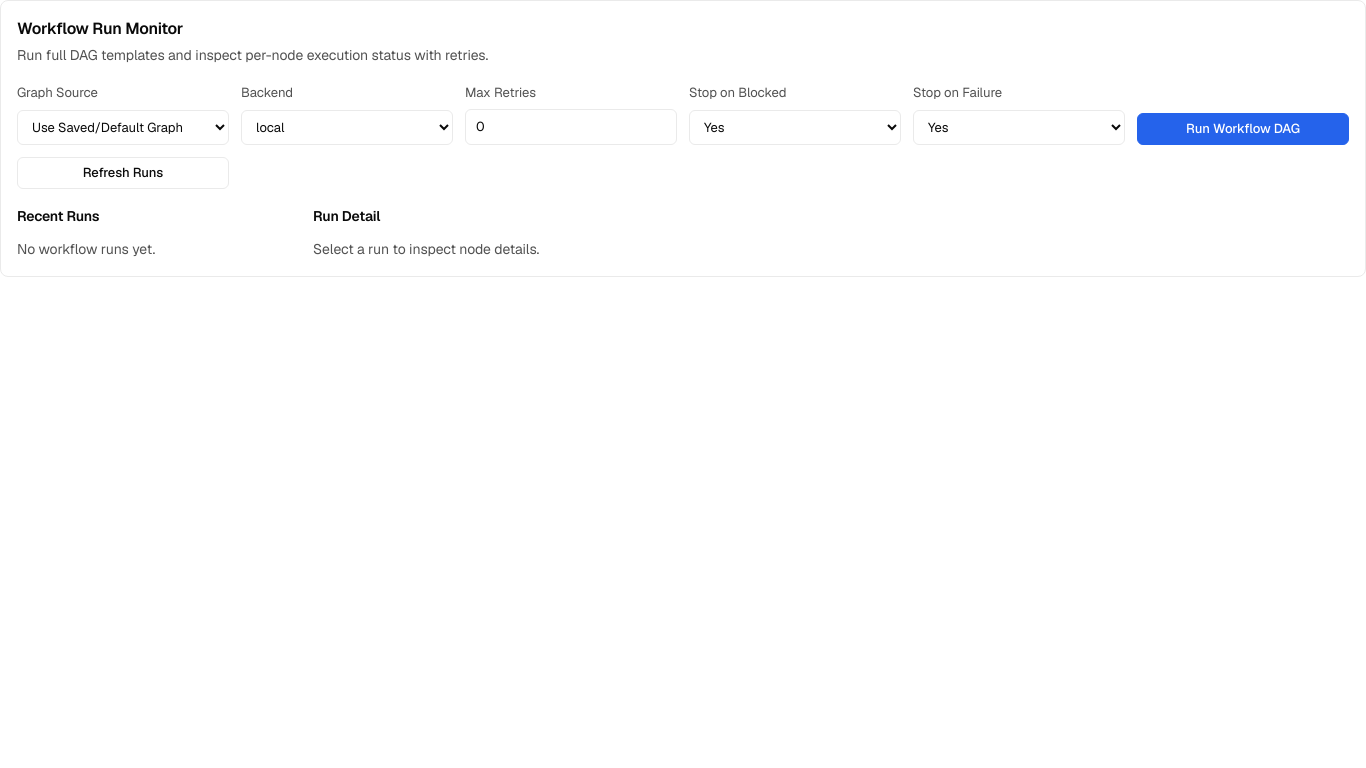
Scenario: WorkflowRunMonitor autopilot gate › queues autopilot run with profile metadata when preflight passes
This screenshot has width=1366, height=768.
Step 1. Select "Autopilot Chat Pipeline" in the dropdown labelled "Graph Source" → {"x": 123, "y": 127}, box [17, 110, 229, 144]
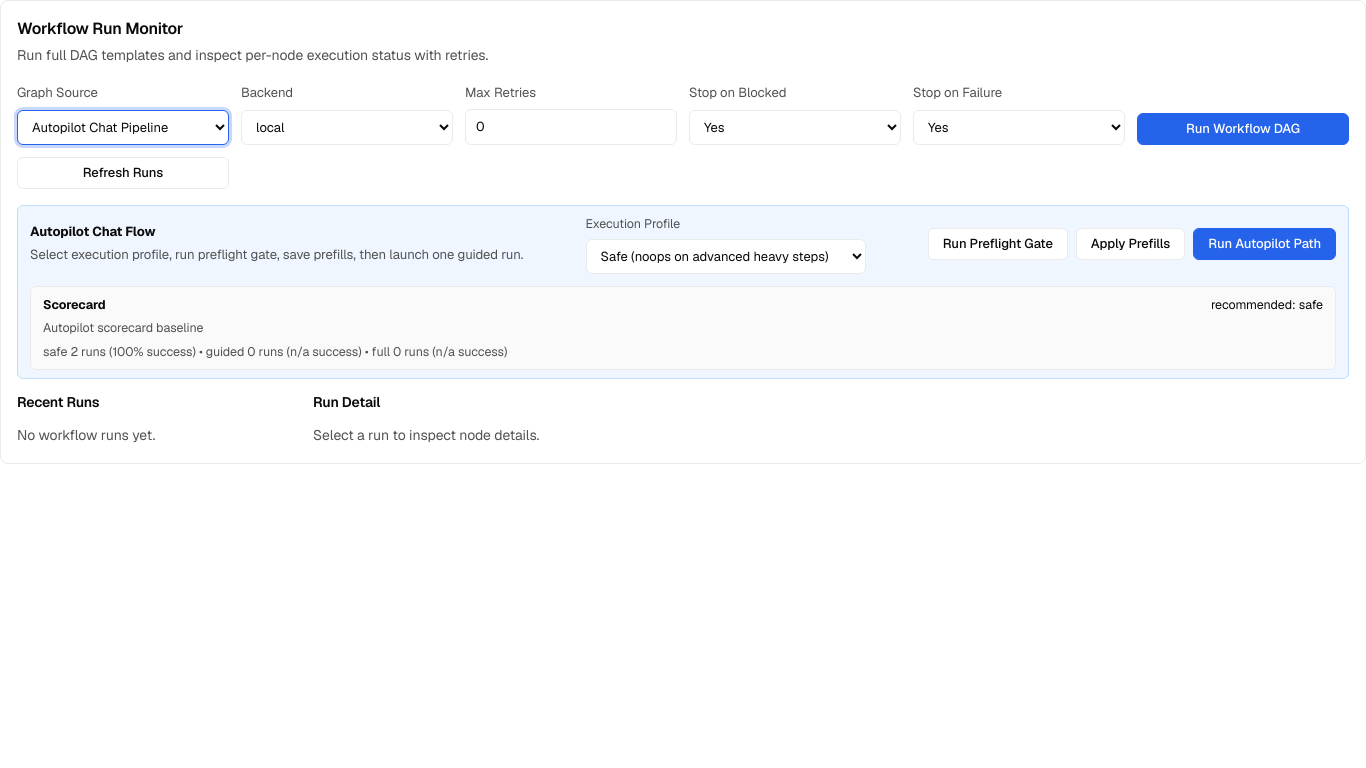
Check: the text "Autopilot Chat Flow" is shown, box [30, 223, 155, 240]
Step 2. Click the button "Run Autopilot Path" → {"x": 1265, "y": 244}, box [1193, 228, 1336, 260]
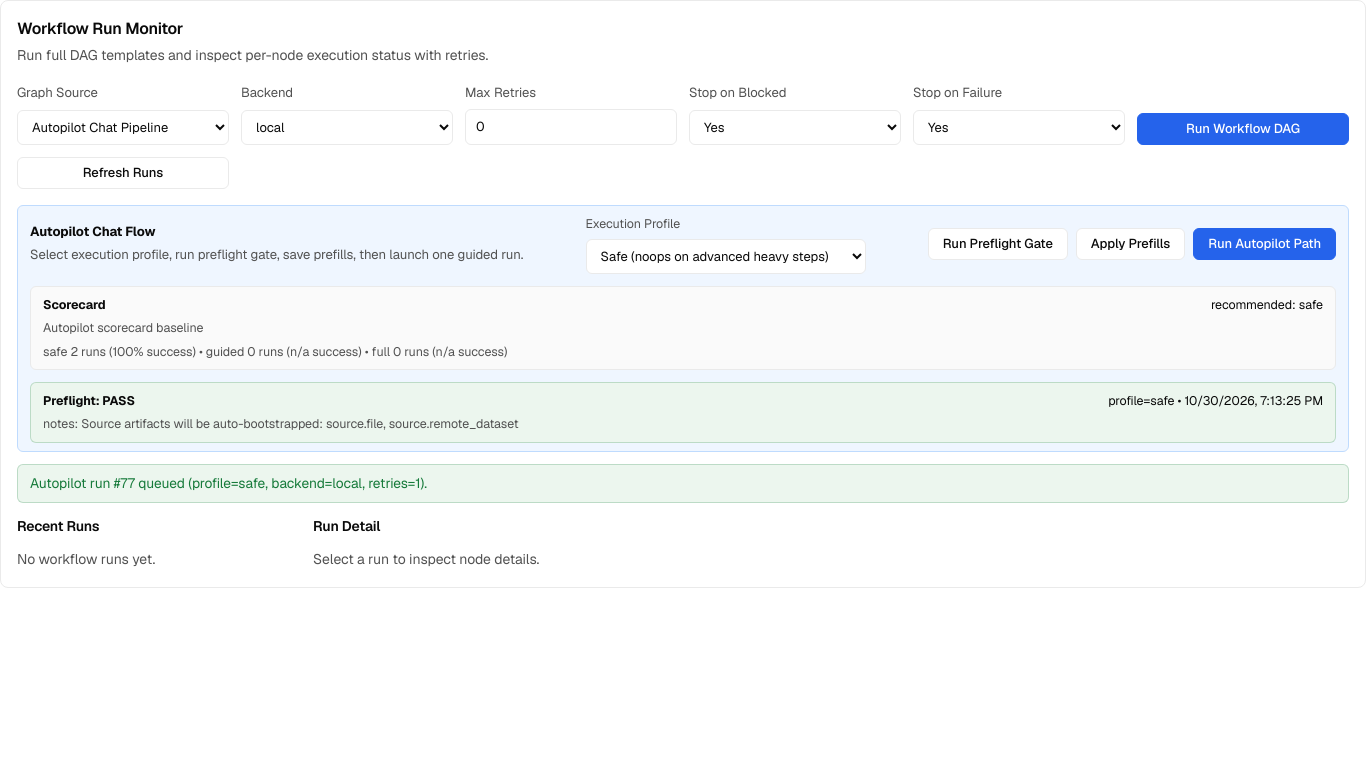
Check: the text "Autopilot run #77 queued" is shown, box [30, 474, 427, 492]
